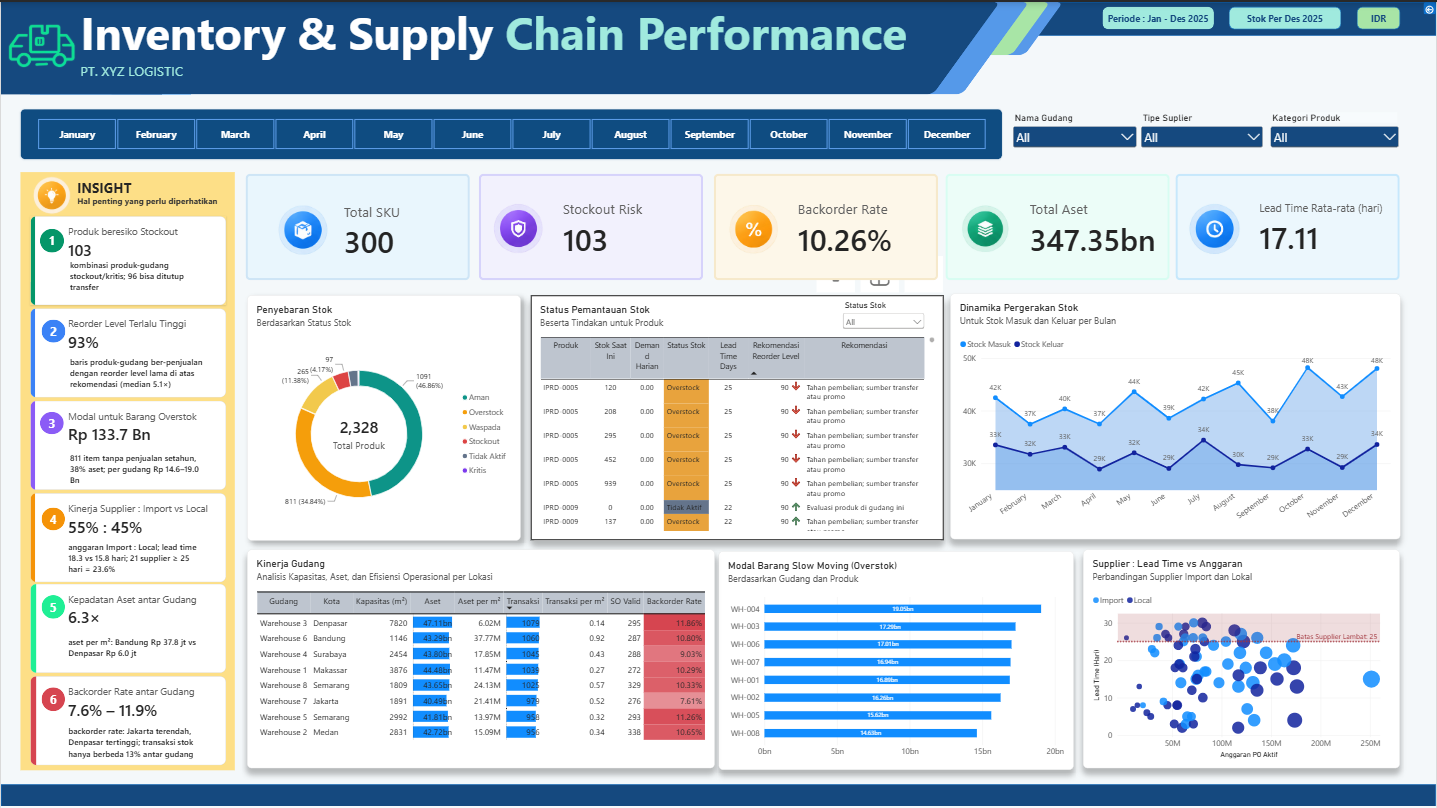

Layout of this report page (visuals, bound fields, positions):
{"tool":"powerbi","page":{"name":"Page 1","canvas":[2560,1440],"ordinal":0},"visuals":[{"type":"shape","box":[70,0,1713.3,165],"z":0,"group":"g16"},{"type":"shape","box":[123.3,0,1713.3,165],"z":0,"group":"g13"},{"type":"shape","box":[160,0,1713.3,95],"z":0,"group":"g14"},{"type":"shape","box":[181.8,0,1713.3,95],"z":0,"group":"g11"},{"type":"cardVisual","fields":{"Data":["CountNonNull(warehouse_inventory products.product_name)"]},"box":[436.7,306.7,400,190.7],"z":0},{"type":"cardVisual","fields":{"Data":["DimDate.N1 Angka"]},"box":[52.4,381.6,350,160],"z":0,"group":"g19"},{"type":"cardVisual","fields":{"Data":["DimDate.N2 Angka"]},"box":[51.7,546.7,350,160],"z":0,"group":"g2"},{"type":"cardVisual","fields":{"Data":["DimDate.N3 Angka"]},"box":[51.7,710,350,160],"z":0,"group":"g3"},{"type":"cardVisual","fields":{"Data":["DimDate.N4 Angka"]},"box":[52.3,874.4,350,160],"z":0,"group":"g4"},{"type":"cardVisual","fields":{"Data":["DimDate.N5 Angka"]},"box":[53.3,1037.6,350,160],"z":0,"group":"g6"},{"type":"cardVisual","fields":{"Data":["DimDate.N6 Angka"]},"box":[53.3,1202.1,350,160],"z":0,"group":"g7"},{"type":"shape","box":[0,0,286.7,165],"z":1000,"group":"g16"},{"type":"shape","box":[53.3,0,286.7,165],"z":1000,"group":"g13"},{"type":"shape","box":[90,0,286.7,95],"z":1000,"group":"g14"},{"type":"shape","box":[111.8,0,286.7,95],"z":1000,"group":"g11"},{"type":"shape","box":[1754,0,806,60],"z":1000},{"type":"cardVisual","fields":{"Data":["DimDate.N1 Teks"]},"box":[106.4,442,269.2,129.6],"z":1000,"group":"g19"},{"type":"cardVisual","fields":{"Data":["DimDate.N2 Teks"]},"box":[105.9,616.4,280.6,142.3],"z":1000,"group":"g2"},{"type":"cardVisual","fields":{"Data":["DimDate.N3 Teks"]},"box":[105.9,785.9,270,121.9],"z":1000,"group":"g3"},{"type":"cardVisual","fields":{"Data":["DimDate.N4 Teks"]},"box":[105.4,945.1,272.2,125.1],"z":1000,"group":"g4"},{"type":"cardVisual","fields":{"Data":["DimDate.N5 Teks"]},"box":[106.4,1114.8,280,127.9],"z":1000,"group":"g6"},{"type":"cardVisual","fields":{"Data":["DimDate.N6 Teks"]},"box":[105.3,1275.1,280,125.6],"z":1000,"group":"g7"},{"type":"shape","box":[35,302.5,382.5,1067.5],"z":2000},{"type":"shape","box":[70.8,403.7,43.3,42.6],"z":2000,"group":"g19"},{"type":"areaChart","title":"Dinamika Pergerakan Stok ","fields":{"Category":["DimDate.Date.Variation.Date Hierarchy.Month"],"Y":["warehouse_inventory stock_movements.Stock Masuk","warehouse_inventory stock_movements.Stock Keluar"]},"box":[1695,521.7,803.3,438.3],"z":3000},{"type":"donutChart","title":"Penyebaran Stok ","fields":{"Category":["warehouse_inventory klasifikasi_stock.STATUS"],"Y":["CountNonNull(warehouse_inventory klasifikasi_stock.PRODUCT_ID)"]},"box":[440,522.5,487.5,437.5],"z":4000},{"type":"cardVisual","fields":{"Data":["warehouse_inventory klasifikasi_stock.stockout risk"]},"box":[854,306,400,190.7],"z":5000},{"type":"tableEx","title":"Status Pemantauan Stok","fields":{"Values":["warehouse_inventory analisis_gudang.product_id","warehouse_inventory klasifikasi_stock.STOK_SEKARANG","warehouse_inventory klasifikasi_stock.DEMAND_HARIAN","warehouse_inventory klasifikasi_stock.STATUS","warehouse_inventory klasifikasi_stock.LEAD_TIME_DAYS","warehouse_inventory klasifikasi_stock.NEW_REORDER_LEVEL","warehouse_inventory klasifikasi_stock.REKOMENDASI"]},"box":[945,522.5,737.5,437.5],"z":6000},{"type":"cardVisual","fields":{"Data":["warehouse_inventory sales_orders.Backorder Rate"]},"box":[1272,306,400,190],"z":7000},{"type":"barChart","title":"Modal Barang Slow Moving (Overstok)","fields":{"Category":["warehouse_inventory klasifikasi_stock.WAREHOUSE_ID","warehouse_inventory products.product_name"],"Y":["warehouse_inventory analisis_gudang.Modal Overstock"]},"box":[1281.7,980,633.3,390],"z":8000},{"type":"cardVisual","fields":{"Data":["Avg(warehouse_inventory suppliers.lead_time_days)"]},"box":[2096,306,400,190.7],"z":9000},{"type":"tableEx","title":"Kinerja Gudang","fields":{"Values":["warehouse_inventory warehouses.warehouse_name","warehouse_inventory warehouses.city","Sum(warehouse_inventory warehouses.capacity_sqm)","Sum(warehouse_inventory analisis_gudang.ASET)","DimDate.Aset per m2","DimDate.Transaksi Stok","DimDate.TRX per m","warehouse_inventory sales_orders.SO_Valid","warehouse_inventory sales_orders.Backorder Rate"]},"box":[438,978,834,390],"z":10000},{"type":"scatterChart","title":"Supplier : Lead Time vs Anggaran","fields":{"Category":["warehouse_inventory suppliers.supplier_id"],"Series":["warehouse_inventory suppliers.supplier_type"],"Size":["CountNonNull(warehouse_inventory purchase_orders.po_id)"],"X":["DimDate.Anggaran PO Aktif"],"Y":["Max(warehouse_inventory suppliers.lead_time_days)"]},"box":[1930,978.3,565,390],"z":11000},{"type":"actionButton","box":[2537.5,0,22.5,22.5],"z":12000},{"type":"slicer","title":"Bulan","fields":{"Values":["DimDate.Date.Variation.Date Hierarchy.Month"]},"box":[35.3,190,1752,90],"z":13000},{"type":"slicer","fields":{"Values":["warehouse_inventory warehouses.warehouse_name"]},"box":[1800,195.7,230,90],"z":14000},{"type":"cardVisual","fields":{"Data":["Sum(warehouse_inventory analisis_gudang.ASET)"]},"box":[1684,306,400,190.7],"z":15000},{"type":"slicer","fields":{"Values":["warehouse_inventory suppliers.supplier_type"]},"box":[2030,195.7,227.1,87.1],"z":16000},{"type":"slicer","fields":{"Values":["warehouse_inventory products.category"]},"box":[2260,195.7,238.6,87.1],"z":17000},{"type":"slicer","fields":{"Values":["warehouse_inventory products.category"]},"box":[4147.8,177.8,203.3,76.7],"z":18000},{"type":"slicer","fields":{"Values":["warehouse_inventory products.category"]},"box":[4147.8,208.9,183.3,76.7],"z":19000},{"type":"group","id":"g1","title":"Group 2","box":[52.4,381.6,350,190],"z":20000},{"type":"textbox","box":[136.7,345,300,30],"z":21000},{"type":"group","id":"g2","title":"Group 3","box":[51.7,546.7,350,211.9],"z":21000,"group":"g9"},{"type":"image","box":[30.8,309.2,118.3,73.3],"z":22000},{"type":"group","id":"g3","title":"Group 4","box":[51.7,710,350,197.8],"z":22000,"group":"g10"},{"type":"textbox","box":[136.7,315,130,45],"z":23000},{"type":"group","id":"g4","title":"Group 5","box":[52.3,874.4,350,195.9],"z":23000,"group":"g12"},{"type":"group","id":"g5","title":"Group 8","box":[90,0,1805,95],"z":24000},{"type":"group","id":"g6","title":"Group 6","box":[53.3,1037.6,350,205.1],"z":24000,"group":"g15"},{"type":"group","id":"g7","title":"Group 6","box":[53.3,1202.1,350,198.5],"z":24000,"group":"g18"},{"type":"group","id":"g8","title":"Group 9","box":[0,0,1862.5,165],"z":25000},{"type":"slicer","fields":{"Values":["warehouse_inventory klasifikasi_stock.STATUS"]},"box":[1498.3,531.7,155,63.3],"z":26000},{"type":"shape","box":[71.1,566.3,42.9,41.4],"z":26000,"group":"g9"},{"type":"shape","box":[1965.7,10,198.6,40],"z":27000},{"type":"shape","box":[2191.4,10,200,40],"z":28000},{"type":"shape","box":[68.8,730.1,42.9,40.2],"z":28000,"group":"g10"},{"type":"shape","box":[2418.6,10,77.1,40],"z":29000},{"type":"shape","box":[72.1,900.3,42,41.1],"z":29000,"group":"g12"},{"type":"shape","box":[73.5,1058.5,42,42.7],"z":30000,"group":"g15"},{"type":"shape","box":[73.5,1223,42,42.7],"z":30000,"group":"g18"},{"type":"shape","box":[0,1396,2560,40],"z":30000},{"type":"group","id":"g9","title":"Group 11","box":[51.7,546.7,350,211.7],"z":31000},{"type":"group","id":"g10","title":"Group 12","box":[51.7,710,350,196.7],"z":32000},{"type":"group","id":"g11","title":"Group 1","box":[111.8,0,1783.3,95],"z":33000,"group":"g5"},{"type":"group","id":"g12","title":"Group 13","box":[52.3,874.4,350,195.9],"z":33000},{"type":"group","id":"g13","title":"Group 1","box":[53.3,0,1783.3,165],"z":34000,"group":"g17"},{"type":"group","id":"g14","title":"Group 1","box":[90,0,1783.3,95],"z":34000,"group":"g5"},{"type":"group","id":"g15","title":"Group 14","box":[53.3,1037.6,350,205],"z":34000},{"type":"group","id":"g16","title":"Group 1","box":[0,0,1783.3,165],"z":35000,"group":"g17"},{"type":"group","id":"g17","title":"Group 7","box":[0,0,1836.7,165],"z":35000,"group":"g8"},{"type":"group","id":"g18","title":"Group 14","box":[53.3,1202.1,350,199],"z":35000},{"type":"textbox","box":[142.5,0,1720,165],"z":35500,"group":"g8"},{"type":"image","box":[5,0,133.3,146.7],"z":35502,"group":"g17"},{"type":"group","id":"g19","title":"Group 10","box":[52.4,381.6,350,190],"z":40001,"group":"g1"}]}

Visuals, with their boxes in screenshot pixels (x1, y1, x2, y2), scaled from the page's 2560x1440 canvas onto the 1437x808 screenshot:
shape: l=39, t=0, r=1001, b=93
shape: l=69, t=0, r=1031, b=93
shape: l=90, t=0, r=1052, b=53
shape: l=102, t=0, r=1064, b=53
cardVisual - CountNonNull(warehouse_inventory products.product_name): l=245, t=172, r=470, b=279
cardVisual - DimDate.N1 Angka: l=29, t=214, r=226, b=304
cardVisual - DimDate.N2 Angka: l=29, t=307, r=225, b=397
cardVisual - DimDate.N3 Angka: l=29, t=398, r=225, b=488
cardVisual - DimDate.N4 Angka: l=29, t=491, r=226, b=580
cardVisual - DimDate.N5 Angka: l=30, t=582, r=226, b=672
cardVisual - DimDate.N6 Angka: l=30, t=675, r=226, b=764
shape: l=0, t=0, r=161, b=93
shape: l=30, t=0, r=191, b=93
shape: l=51, t=0, r=211, b=53
shape: l=63, t=0, r=224, b=53
shape: l=985, t=0, r=1436, b=34
cardVisual - DimDate.N1 Teks: l=60, t=248, r=211, b=321
cardVisual - DimDate.N2 Teks: l=59, t=346, r=217, b=426
cardVisual - DimDate.N3 Teks: l=59, t=441, r=211, b=509
cardVisual - DimDate.N4 Teks: l=59, t=530, r=212, b=601
cardVisual - DimDate.N5 Teks: l=60, t=626, r=217, b=697
cardVisual - DimDate.N6 Teks: l=59, t=715, r=216, b=786
shape: l=20, t=170, r=234, b=769
shape: l=40, t=227, r=64, b=250
"Dinamika Pergerakan Stok " areaChart: l=951, t=293, r=1402, b=539
"Penyebaran Stok " donutChart: l=247, t=293, r=521, b=539
cardVisual - warehouse_inventory klasifikasi_stock.stockout risk: l=479, t=172, r=704, b=279
"Status Pemantauan Stok" tableEx: l=530, t=293, r=944, b=539
cardVisual - warehouse_inventory sales_orders.Backorder Rate: l=714, t=172, r=939, b=278
"Modal Barang Slow Moving (Overstok)" barChart: l=719, t=550, r=1075, b=769
cardVisual - Avg(warehouse_inventory suppliers.lead_time_days): l=1177, t=172, r=1401, b=279
"Kinerja Gudang" tableEx: l=246, t=549, r=714, b=768
"Supplier : Lead Time vs Anggaran" scatterChart: l=1083, t=549, r=1401, b=768
actionButton: l=1424, t=0, r=1436, b=13
"Bulan" slicer: l=20, t=107, r=1003, b=157
slicer - warehouse_inventory warehouses.warehouse_name: l=1010, t=110, r=1139, b=160
cardVisual - Sum(warehouse_inventory analisis_gudang.ASET): l=945, t=172, r=1170, b=279
slicer - warehouse_inventory suppliers.supplier_type: l=1139, t=110, r=1267, b=159
slicer - warehouse_inventory products.category: l=1269, t=110, r=1403, b=159
"Group 2" group: l=29, t=214, r=226, b=321
textbox: l=77, t=194, r=245, b=210
"Group 3" group: l=29, t=307, r=225, b=426
image: l=17, t=173, r=84, b=215
"Group 4" group: l=29, t=398, r=225, b=509
textbox: l=77, t=177, r=150, b=202
"Group 5" group: l=29, t=491, r=226, b=601
"Group 8" group: l=51, t=0, r=1064, b=53
"Group 6" group: l=30, t=582, r=226, b=697
"Group 6" group: l=30, t=675, r=226, b=786
"Group 9" group: l=0, t=0, r=1045, b=93
slicer - warehouse_inventory klasifikasi_stock.STATUS: l=841, t=298, r=928, b=334
shape: l=40, t=318, r=64, b=341
shape: l=1103, t=6, r=1215, b=28
shape: l=1230, t=6, r=1342, b=28
shape: l=39, t=410, r=63, b=432
shape: l=1358, t=6, r=1401, b=28
shape: l=40, t=505, r=64, b=528
shape: l=41, t=594, r=65, b=618
shape: l=41, t=686, r=65, b=710
shape: l=0, t=783, r=1436, b=806
"Group 11" group: l=29, t=307, r=225, b=426
"Group 12" group: l=29, t=398, r=225, b=509
"Group 1" group: l=63, t=0, r=1064, b=53
"Group 13" group: l=29, t=491, r=226, b=601
"Group 1" group: l=30, t=0, r=1031, b=93
"Group 1" group: l=51, t=0, r=1052, b=53
"Group 14" group: l=30, t=582, r=226, b=697
"Group 1" group: l=0, t=0, r=1001, b=93
"Group 7" group: l=0, t=0, r=1031, b=93
"Group 14" group: l=30, t=675, r=226, b=786
textbox: l=80, t=0, r=1045, b=93
image: l=3, t=0, r=78, b=82
"Group 10" group: l=29, t=214, r=226, b=321
